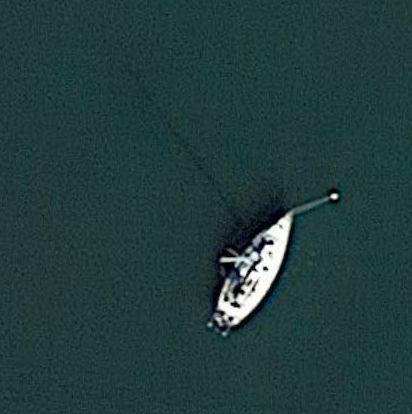boat: (215, 204, 299, 334)
